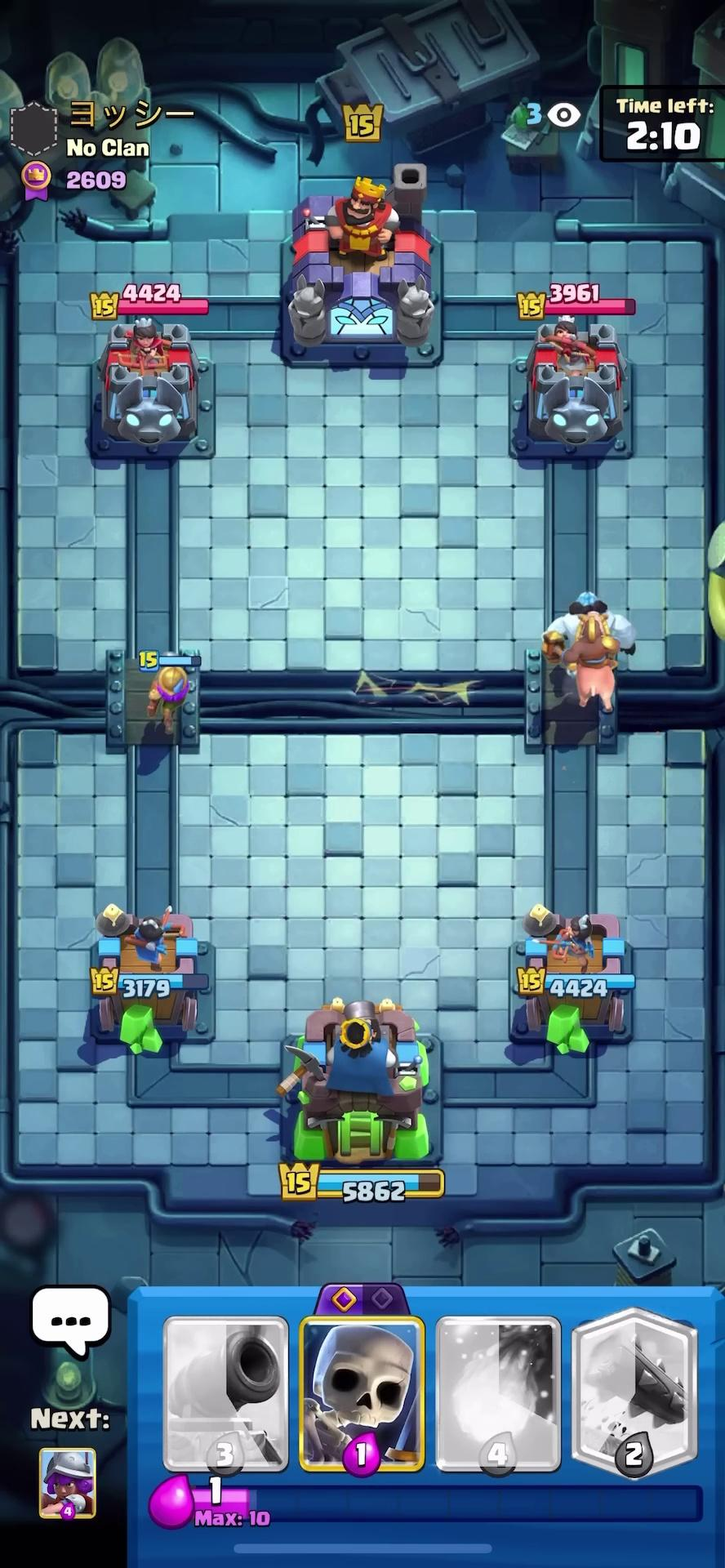hog_rider: (547, 621, 633, 704)
ice_golem: (535, 584, 647, 649)
musketeer: (141, 639, 218, 723)
